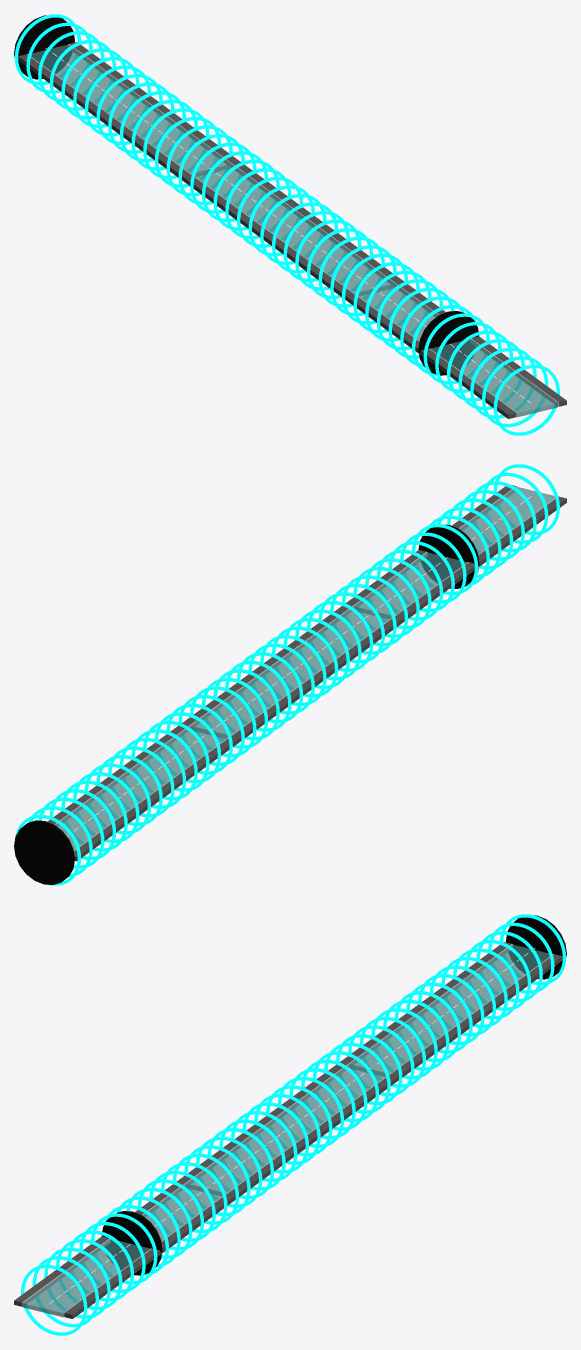
File: stage-signoad3.glb
3 views of the same model, one above another, from view 1: azimuth 30°, elevation 25°; view 2: azimuth 150°, elevation 25°; view 3: azimuth 330°, elevation 25° (orthographic).
Parts seen in each view (by area): view 1: Cube (1) (×4), Cube (×4), Cube (2) (×4), ring (13) (×3), Cylinder (1), Cylinder, ring (12) (×3), ring (11) (×3), ring (10) (×3), ring (2) (×3), ring (7) (×3), ring (×3) (+7 smaller); view 2: Cube (1) (×4), Cube (×4), Cube (2) (×4), Cylinder, Cylinder (1), ring (12) (×3), ring (13) (×3), ring (5) (×3), ring (4) (×3), ring (6) (×3), ring (11) (×3), ring (10) (×3) (+7 smaller); view 3: Cube (×4), Cube (1) (×4), Cube (2), ring (13) (×3), Cylinder (1), Cylinder, ring (12) (×3), Cube (3) (×3), ring (11) (×3), ring (10) (×3), ring (2) (×3), ring (7) (×3) (+8 smaller).
Part boxes in pixels (x1,y1,x2,y2): Cube (1) (×4): [18, 44, 516, 418]; Cube (×4): [69, 42, 566, 406]; Cube (2) (×4): [68, 44, 558, 417]; ring (13) (×3): [166, 125, 559, 435]; Cylinder (1): [418, 311, 479, 375]; Cylinder: [14, 15, 74, 79]; ring (12) (×3): [155, 116, 548, 427]; ring (11) (×3): [143, 108, 536, 418]; ring (10) (×3): [131, 99, 524, 410]; ring (2) (×3): [38, 31, 431, 341]; ring (7) (×3): [96, 74, 489, 384]; ring (×3): [14, 14, 407, 324]; Cube (1) (×4): [55, 496, 566, 861]; Cube (×4): [47, 485, 515, 824]; Cube (2) (×4): [54, 486, 554, 826]; Cylinder: [14, 820, 74, 884]; Cylinder (1): [418, 524, 479, 588]; ring (12) (×3): [155, 472, 548, 783]; ring (13) (×3): [166, 464, 559, 774]; ring (5) (×3): [73, 532, 466, 842]; ring (4) (×3): [61, 541, 454, 851]; ring (6) (×3): [85, 524, 478, 834]; ring (11) (×3): [143, 481, 536, 791]; ring (10) (×3): [131, 489, 524, 800]; Cube (×4): [64, 954, 562, 1318]; Cube (1) (×4): [14, 942, 549, 1306]; Cube (2): [23, 1183, 225, 1317]; ring (13) (×3): [21, 1025, 414, 1335]; Cylinder (1): [101, 1211, 162, 1275]; Cylinder: [506, 915, 566, 979]; ring (12) (×3): [32, 1016, 425, 1327]; Cube (3) (×3): [22, 944, 512, 1306]; ring (11) (×3): [44, 1008, 437, 1318]; ring (10) (×3): [56, 999, 449, 1310]; ring (2) (×3): [149, 931, 542, 1241]; ring (7) (×3): [91, 974, 484, 1284].
Size of the model in its own units: 16.37 by 16.37 by 212.
19 materials, 14 textured.
